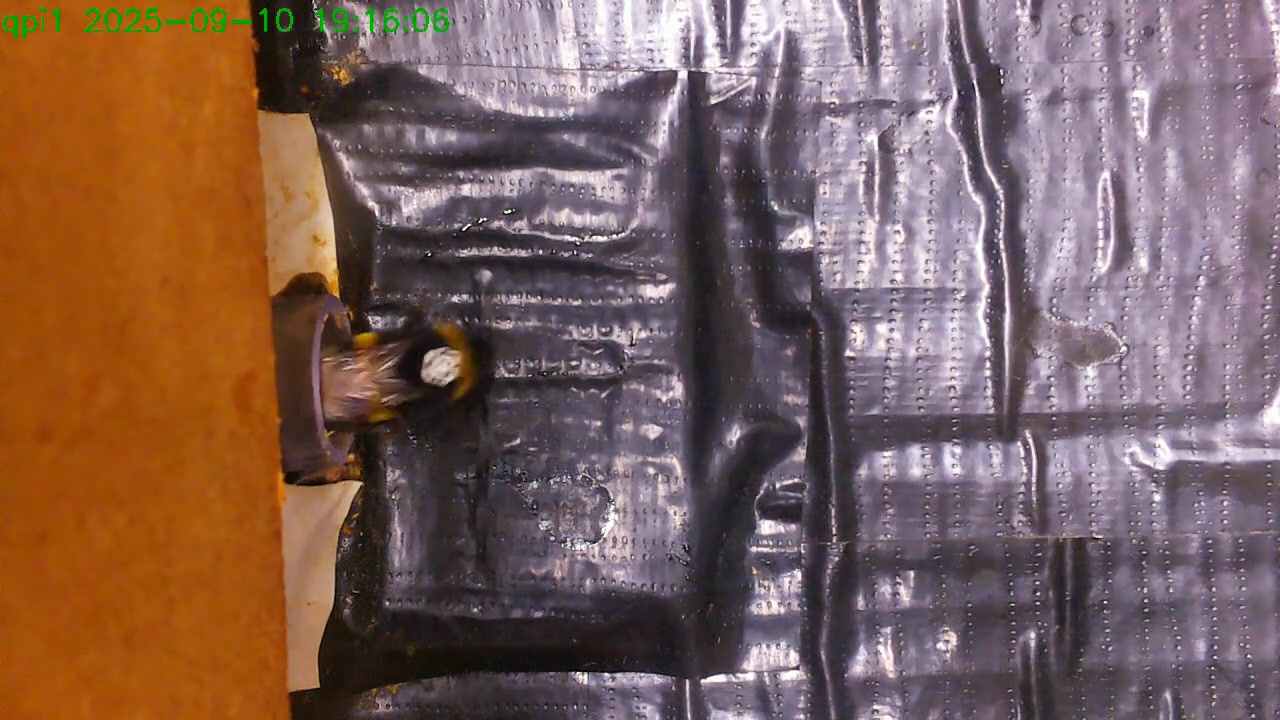bee: (286, 280, 505, 459)
